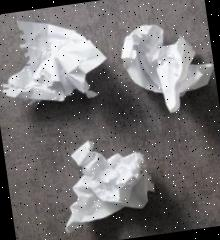paper: (0, 8, 110, 110), (54, 132, 158, 234), (116, 15, 218, 118)
